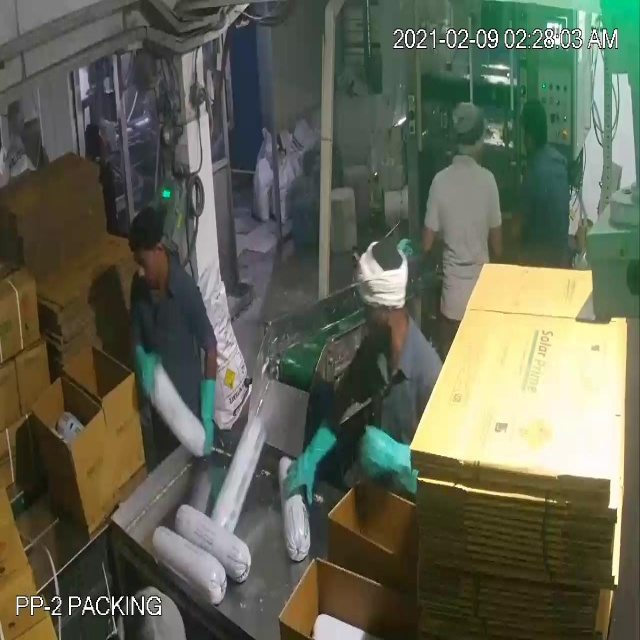Guantes: (354, 412, 428, 510), (286, 420, 336, 517), (185, 364, 224, 472), (124, 331, 164, 412)
